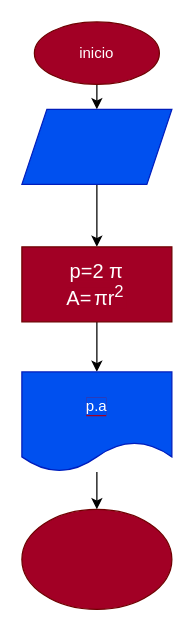
The diagram is 194 pixels wide and 631 high, and some of its shapes have lost their labels. The centre of each missing label's shape, as x and y in pixels:
FIN: point 96,558
variables: point 96,146
